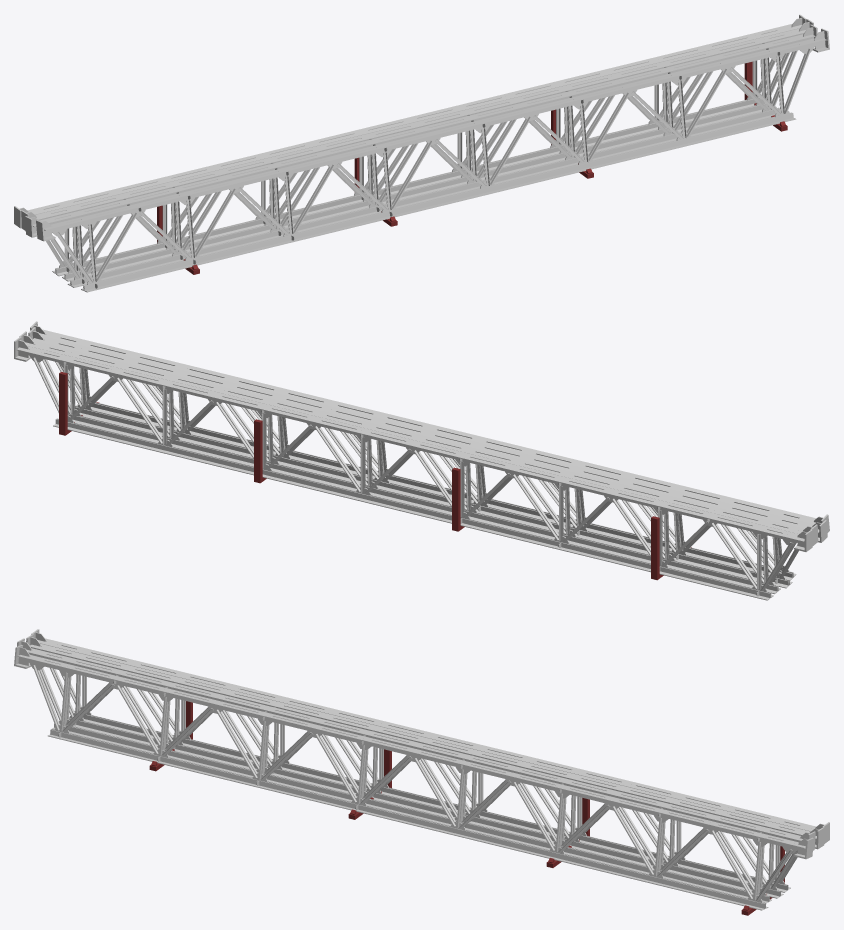
Rendered from SM_Truss05Pack.fbx.
The picture shows the model from 3 angles, top to bottom: view 1: azimuth 30°, elevation 25°; view 2: azimuth 150°, elevation 25°; view 3: azimuth 330°, elevation 25°; orthographic projection.
Visible parts, largest first — view 1: Truss05PackConstr, Truss05PackBeams; view 2: Truss05PackConstr, Truss05PackBeams; view 3: Truss05PackConstr, Truss05PackBeams.
Part boxes in pixels (x1,y1,x2,y2): Truss05PackConstr: (14,14,829,292); Truss05PackBeams: (157,61,787,274); Truss05PackConstr: (14,321,829,600); Truss05PackBeams: (59,372,691,580); Truss05PackConstr: (14,629,829,910); Truss05PackBeams: (149,701,784,915).
Bounding box in the file's own units: 2414 × 233 × 194.
